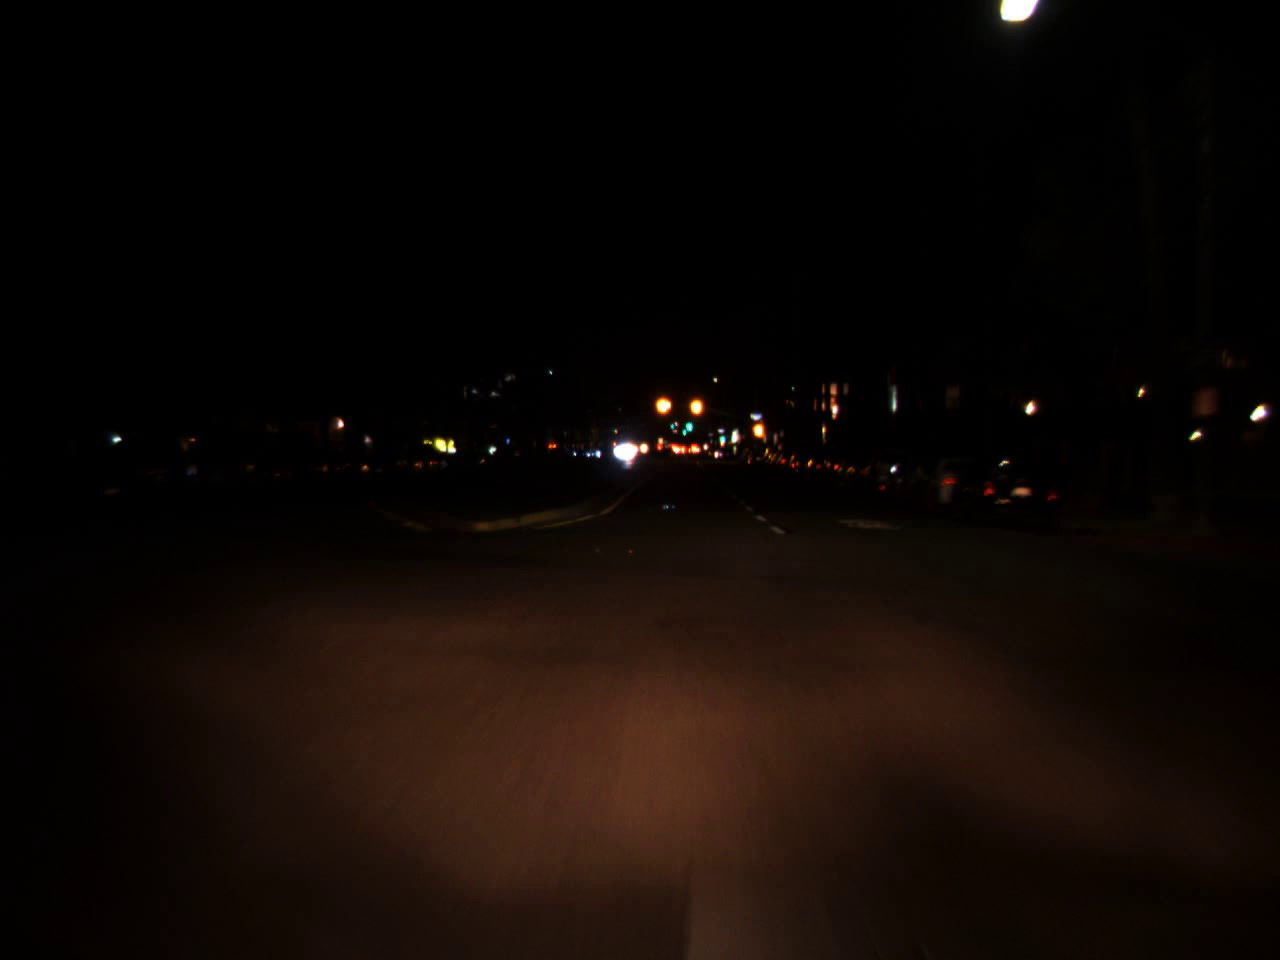go: (682, 410, 694, 434), (718, 431, 725, 443)
warning: (652, 385, 673, 425), (688, 388, 706, 425), (750, 412, 768, 447)
